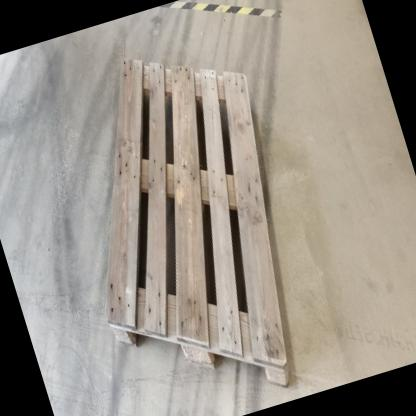BoxFace: (101, 47, 297, 396)
